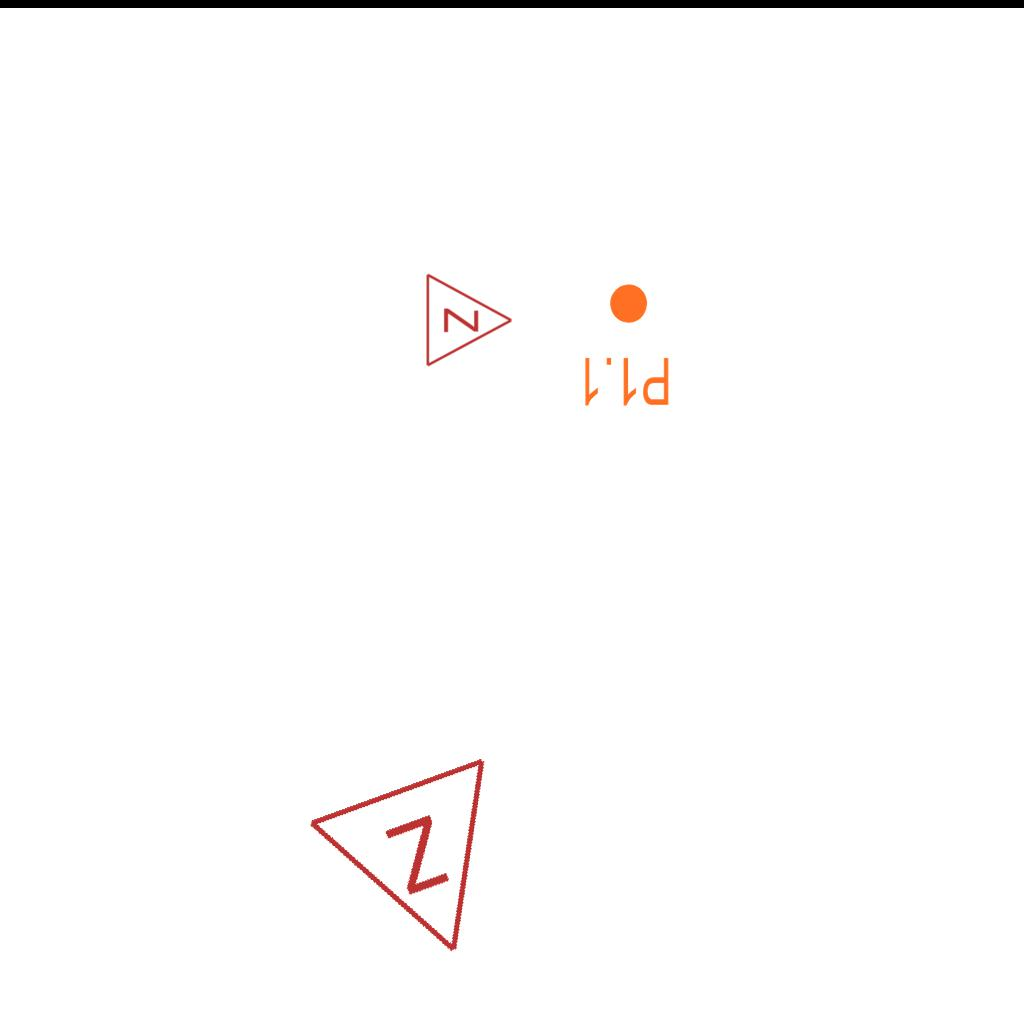Downlight_LED_Einbauleuchten_Flur: (579, 281, 672, 409)
Zimmersignalleuchte: (300, 741, 554, 997), (419, 270, 519, 368)
